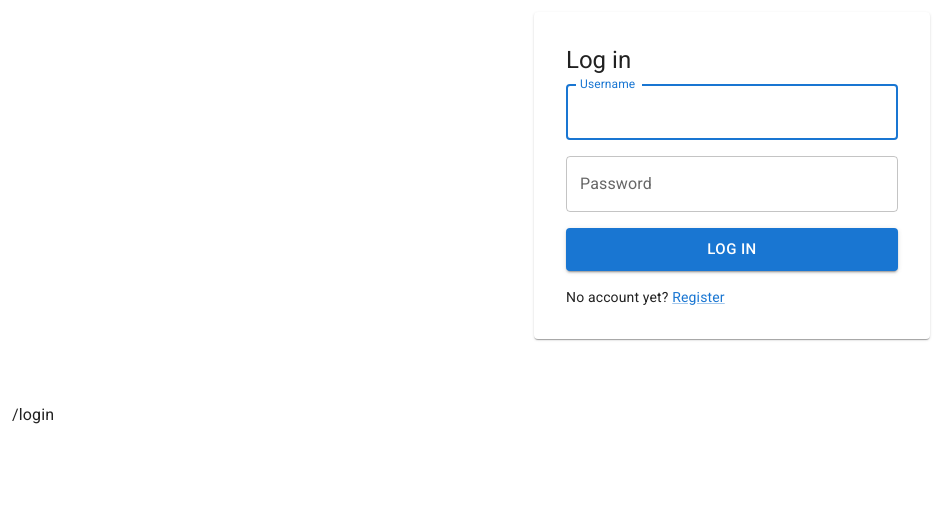
Test: LoginPage › explains a 429 response
Expected: the heading "Log in" is shown, [566,46,631,74]
Type "alice" into the field labelled "Username" at (732, 112), box [566,84,898,140]
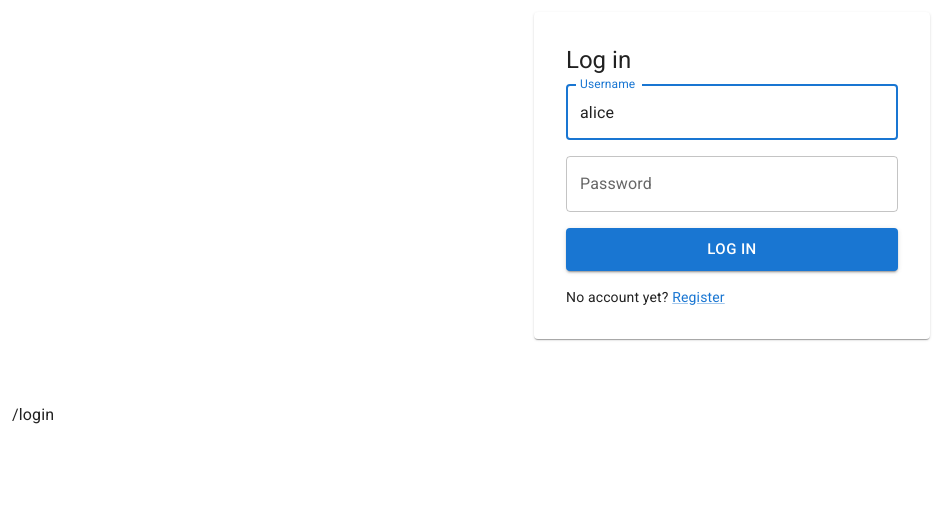
Type "whatever" into the password field labelled "Password" at (732, 184), box [566,156,898,212]
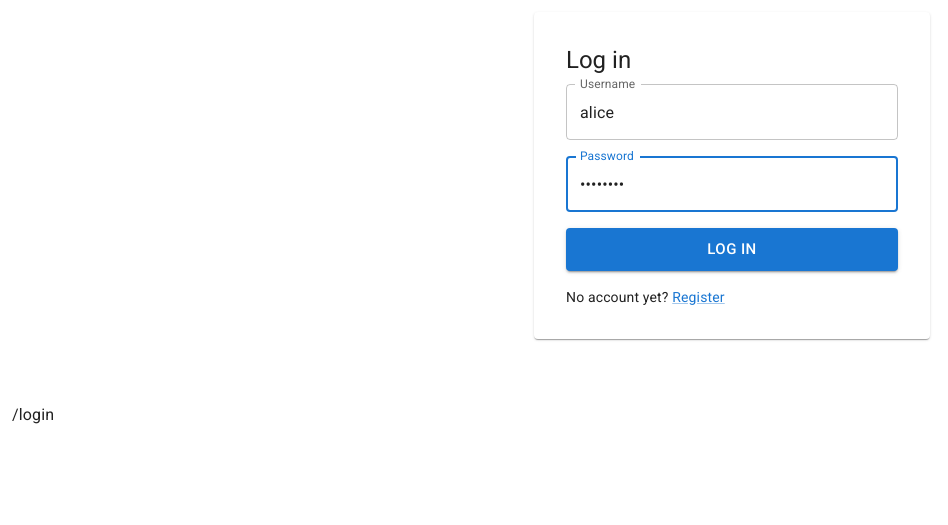
Click the button "Log in" at (732, 250), box [566,228,898,271]
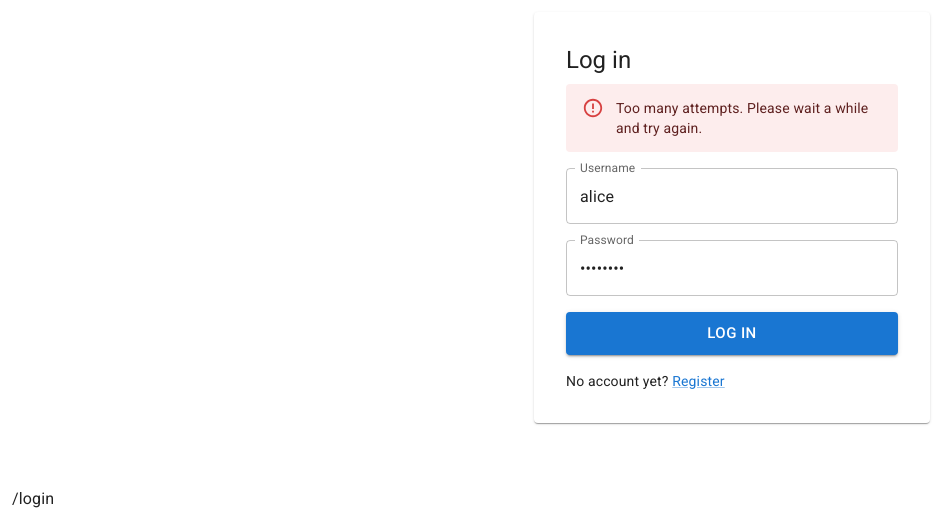
Expected: the message reads "Too many attempts. Please wait a while and try again.", [616,100,868,136]
